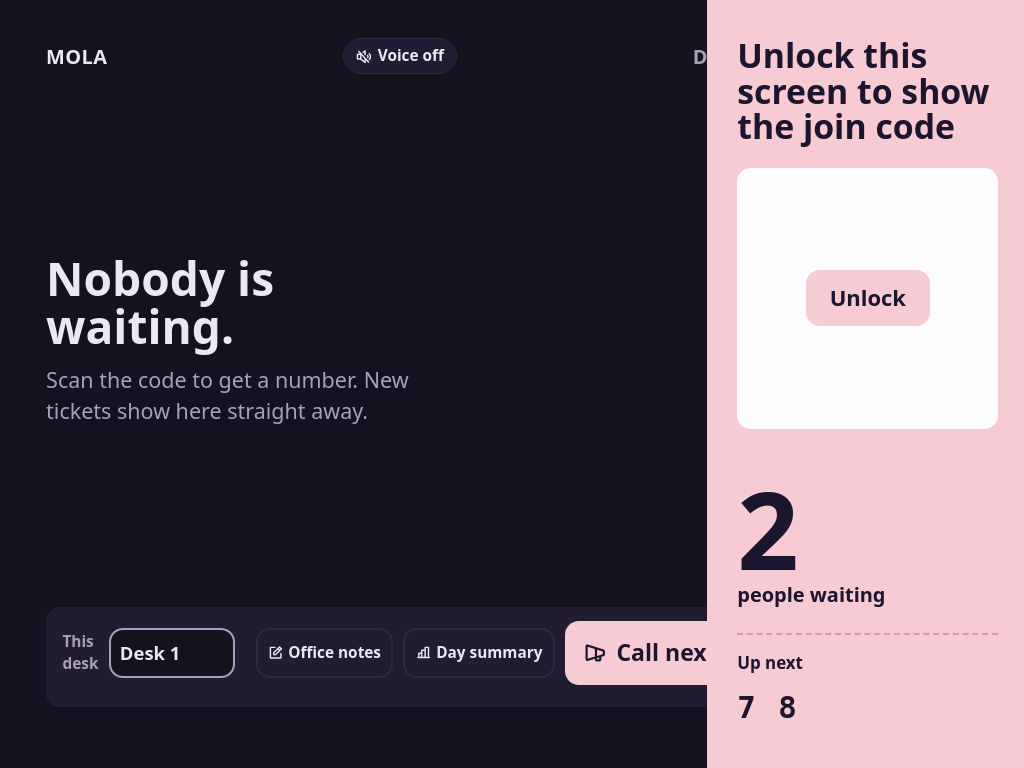
staff notes and summary › keeps typed text on conflict and reloads the version before saving again
Later steps or results of the test are not shown.
Click the button "Office notes" at (324, 653), box [256,628,393,678]
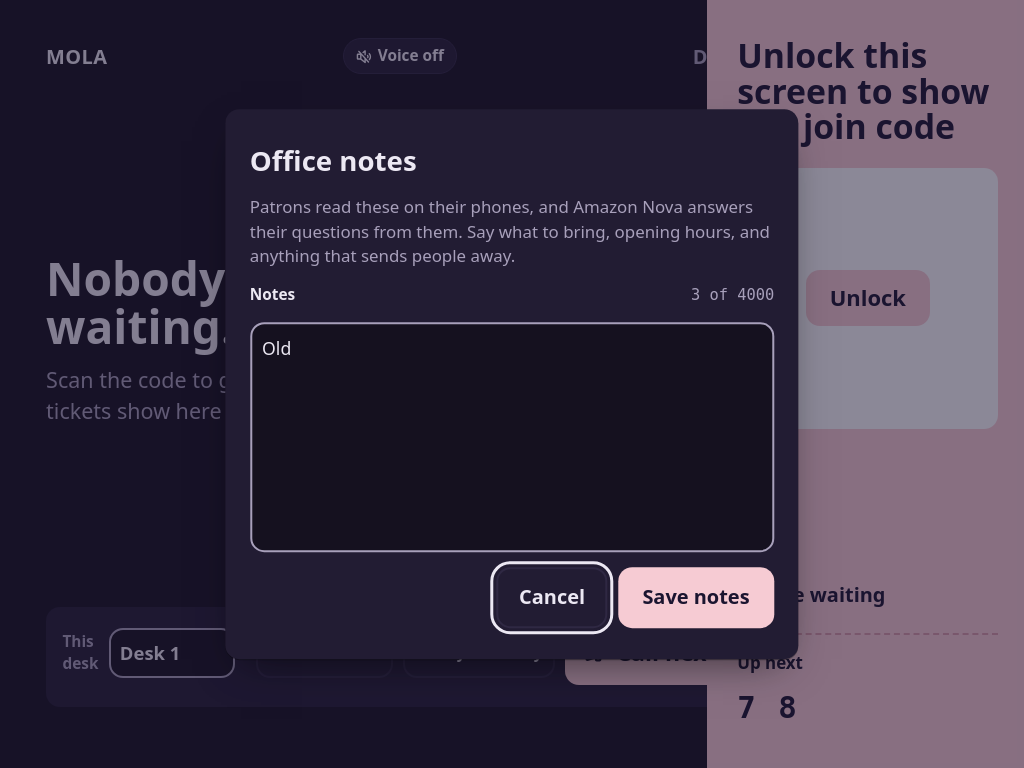
Replace the text in the text box labelled "Notes" with "My text" at (512, 437), box [250,322,774,552]
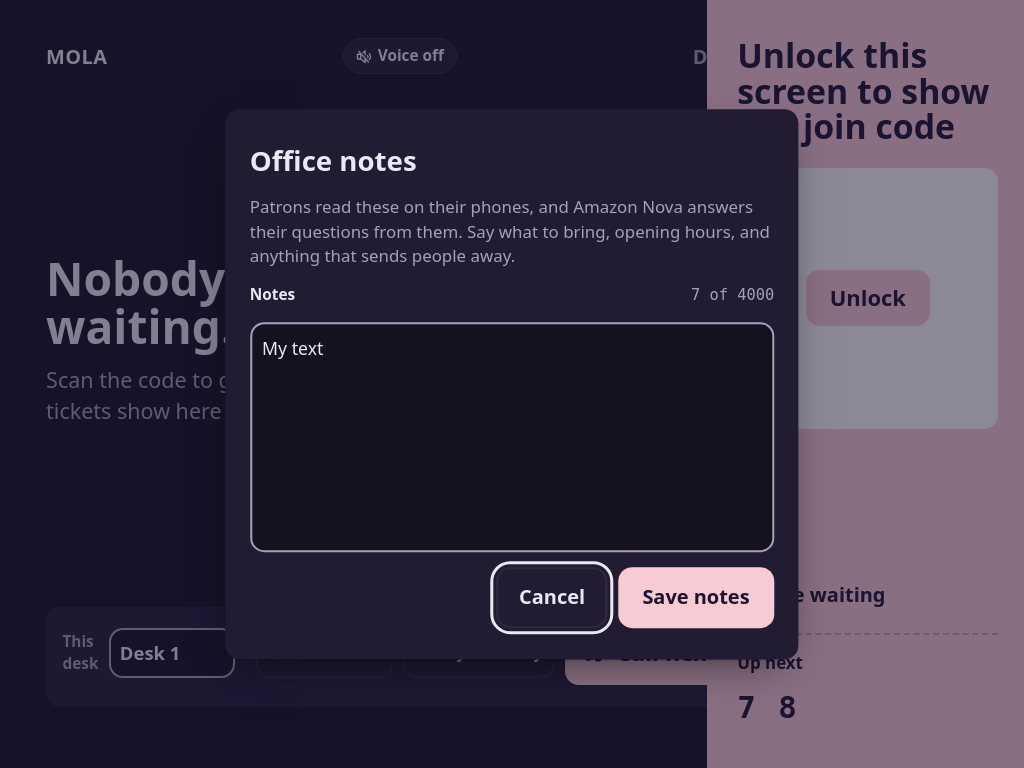
Click the button "Save notes" at (696, 598), box [618,568,774,628]
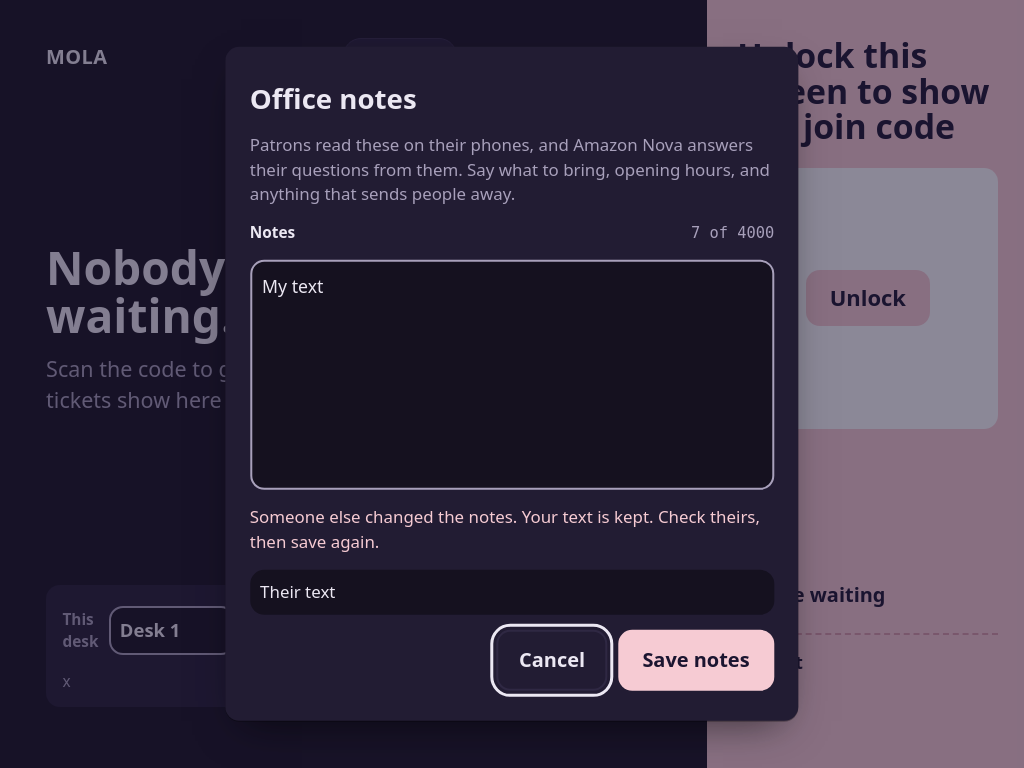
Expected: the text "Someone else changed the notes. Your text is kept. Check theirs, then save again." is shown, [250,505,760,553]
